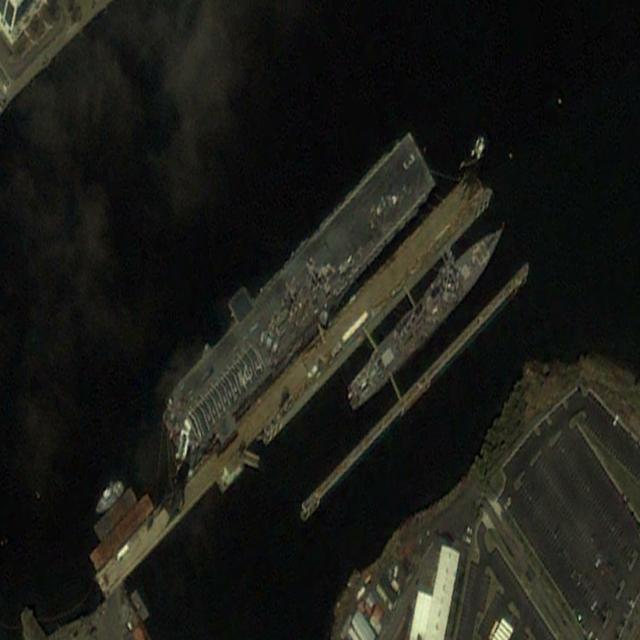Destroyer: (339, 213, 511, 416)
Landing: (143, 112, 447, 486)
